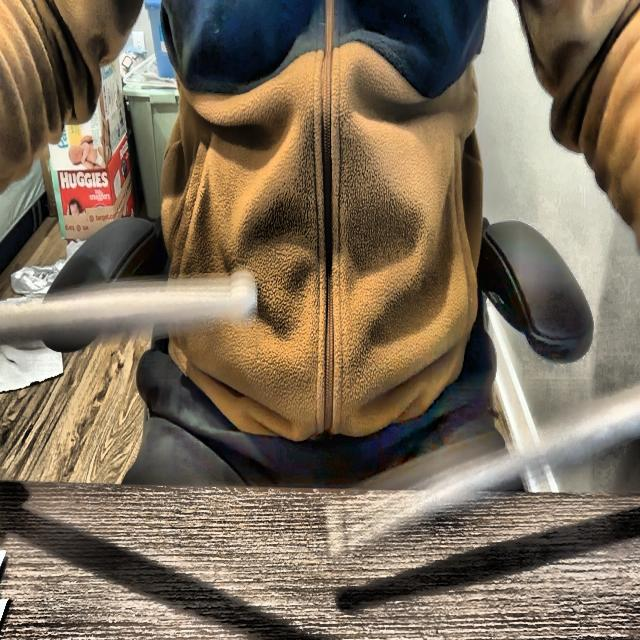Drumstick-Heads: (316, 498, 350, 562), (231, 266, 262, 334)
